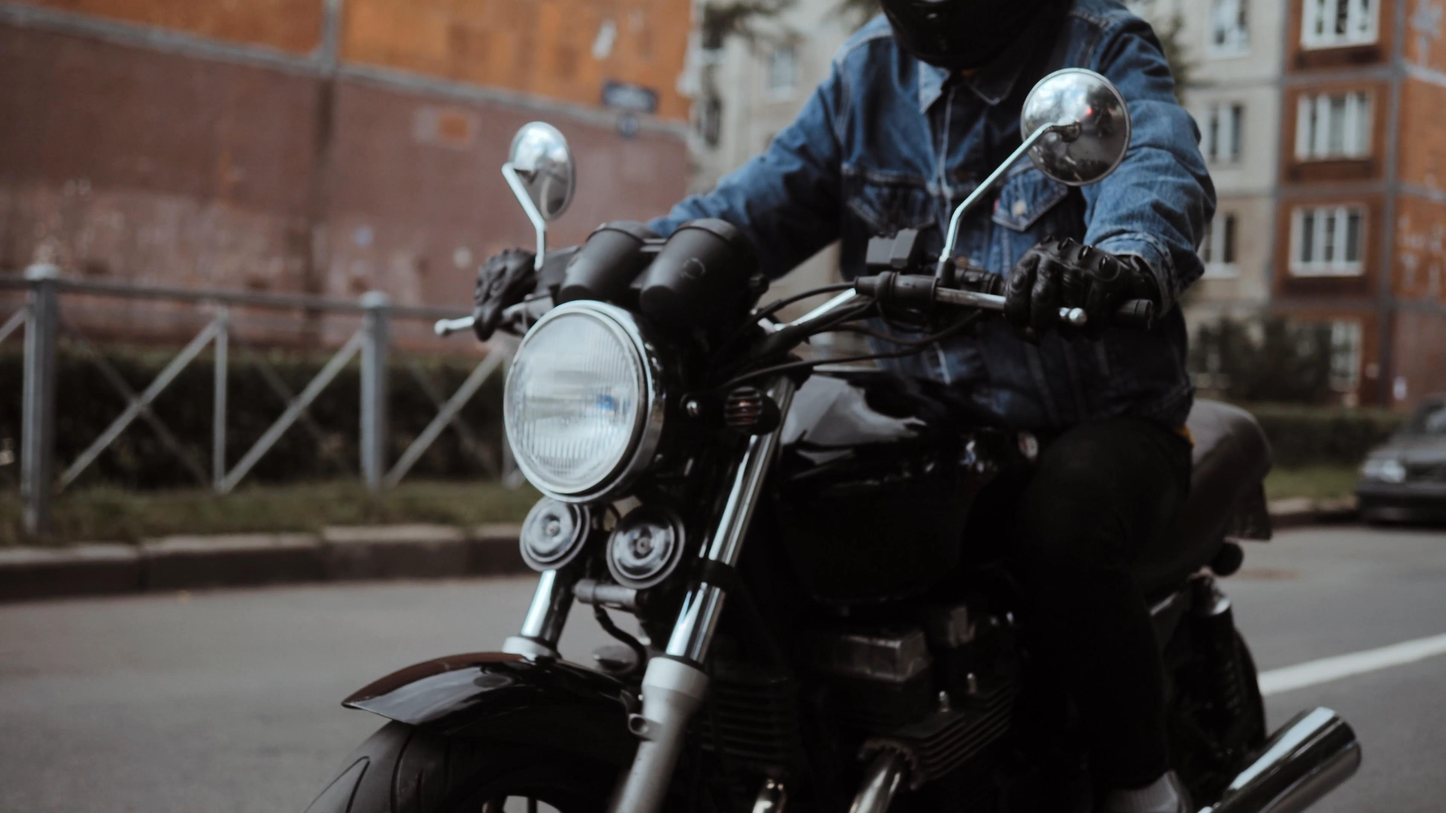driver: (284, 0, 1366, 813)
